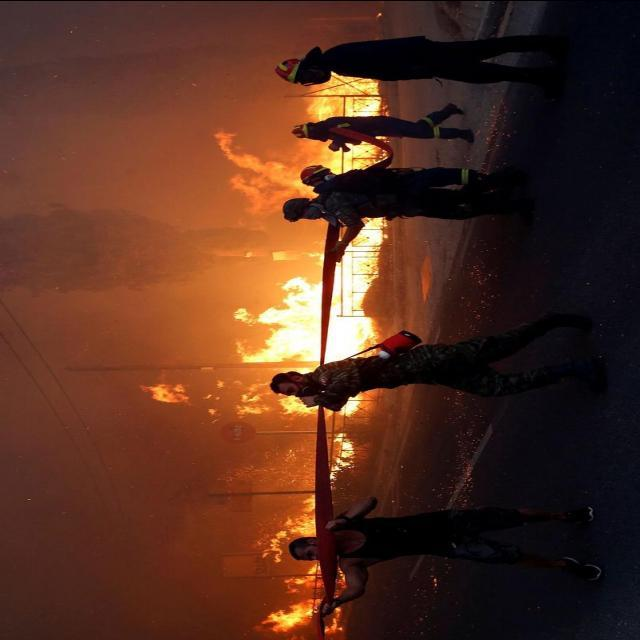Fire: (132, 244, 404, 426), (216, 68, 396, 243), (242, 431, 368, 637)
